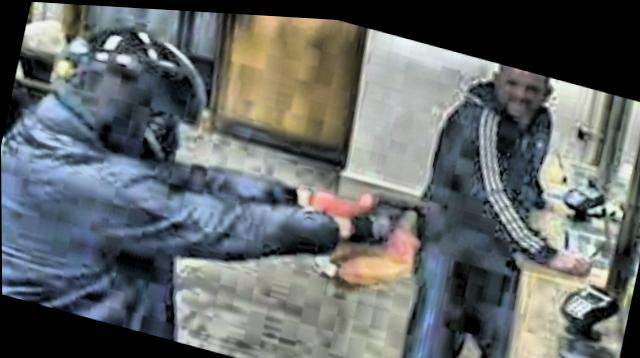pistol: (344, 169, 453, 275)
